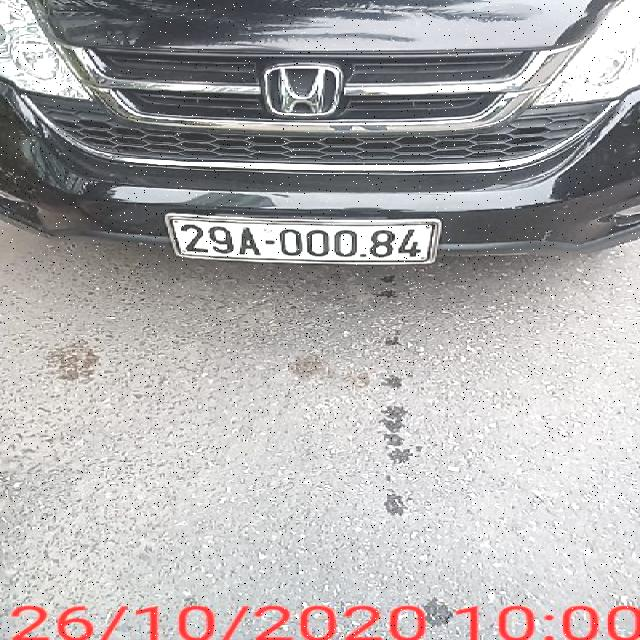0: (274, 228, 302, 257), (332, 228, 358, 257), (307, 229, 328, 257)
2: (178, 222, 208, 255)
4: (398, 228, 423, 258)
8: (366, 228, 396, 259)
9: (210, 226, 236, 256)
A: (237, 228, 262, 256)
